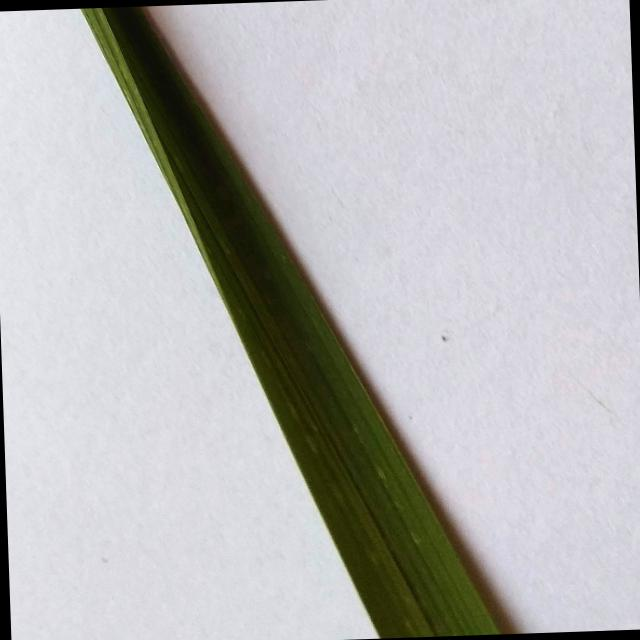Rice_Healthy: (81, 6, 500, 638)
